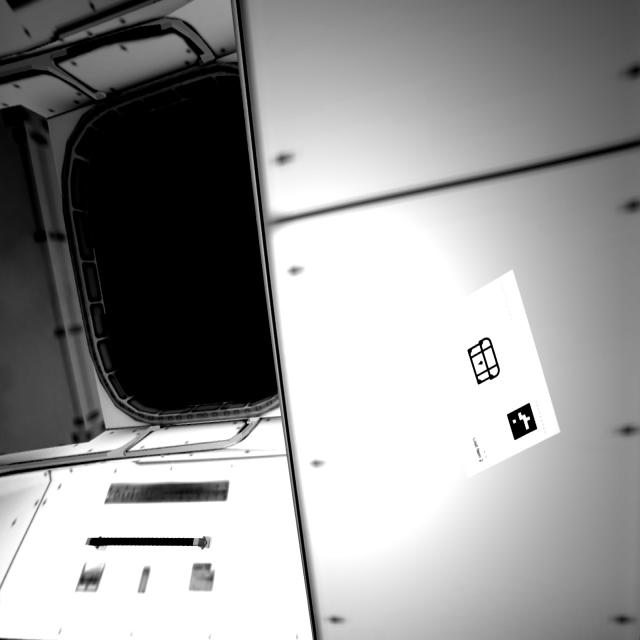treasure_box: (467, 336, 509, 391)
